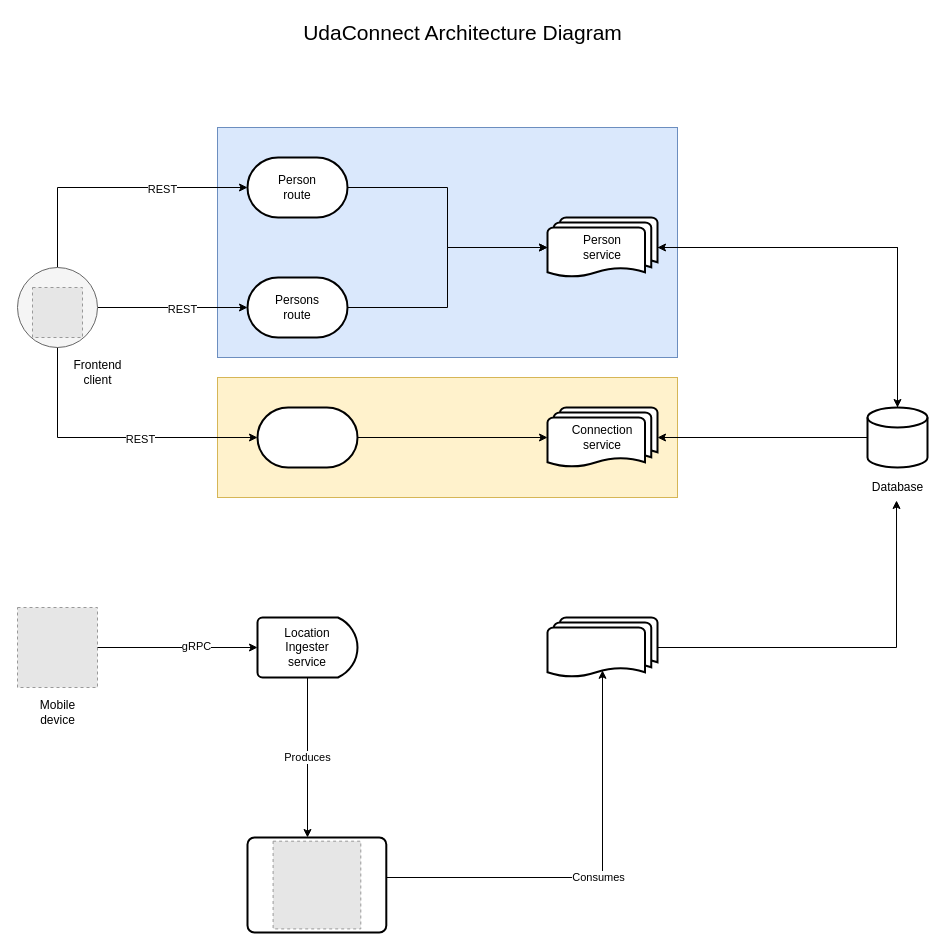
This 950x950 diagram has some shape labels left out. Grey dashed boxes stand in for pictures. The shapes that lost their labels are listed below. From the top down, each one's box as (x1, y1, x2, y2) in pixels, then its label:
(256, 406, 358, 468): Connections route
(546, 616, 658, 678): Location service
